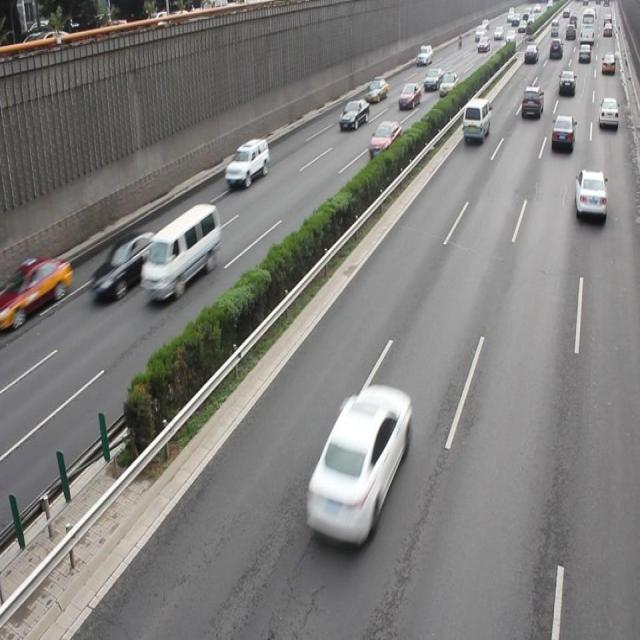car: (303, 384, 408, 546), (90, 231, 160, 300), (1, 255, 71, 323), (224, 138, 269, 186), (573, 166, 605, 218), (368, 121, 402, 159), (338, 98, 368, 130), (549, 112, 573, 150), (597, 96, 617, 128)
truck: (140, 201, 220, 299), (461, 98, 488, 144)
